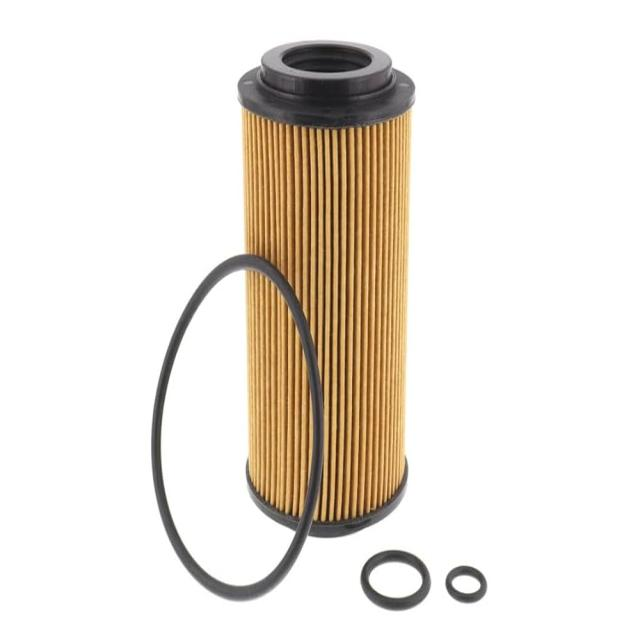oil_filter: (225, 29, 418, 542)
